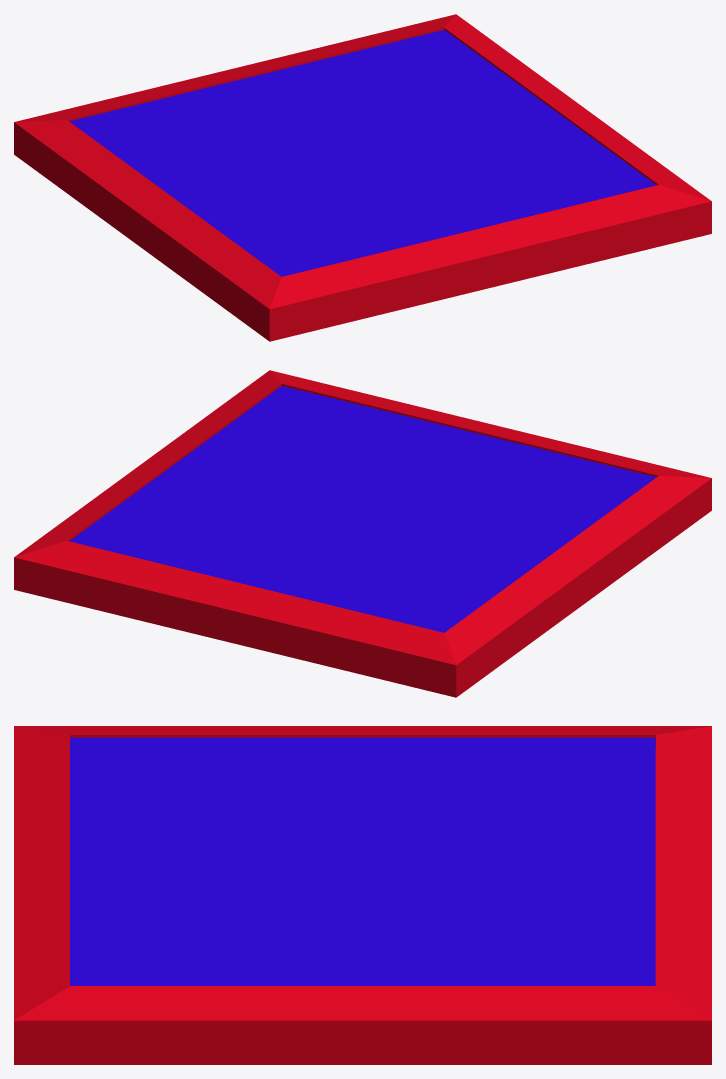
File: BasicFloorUVID.fbx
3 renders of one model, top to bottom at view 1: azimuth 30°, elevation 25°; view 2: azimuth 150°, elevation 25°; view 3: azimuth 270°, elevation 25°, orthographic. The views are drawn at different scales.
Visible parts, largest first — view 1: Tiles, Floor3; view 2: Tiles, Floor3; view 3: Tiles, Floor3.
Part boxes in pixels (<box>): Tiles: <box>69,30,656,276</box>; Floor3: <box>14,14,711,341</box>; Tiles: <box>69,386,656,632</box>; Floor3: <box>14,370,711,697</box>; Tiles: <box>70,737,655,985</box>; Floor3: <box>14,726,711,1064</box>.
Size of the model in its own units: 979 by 88.54 by 980.
